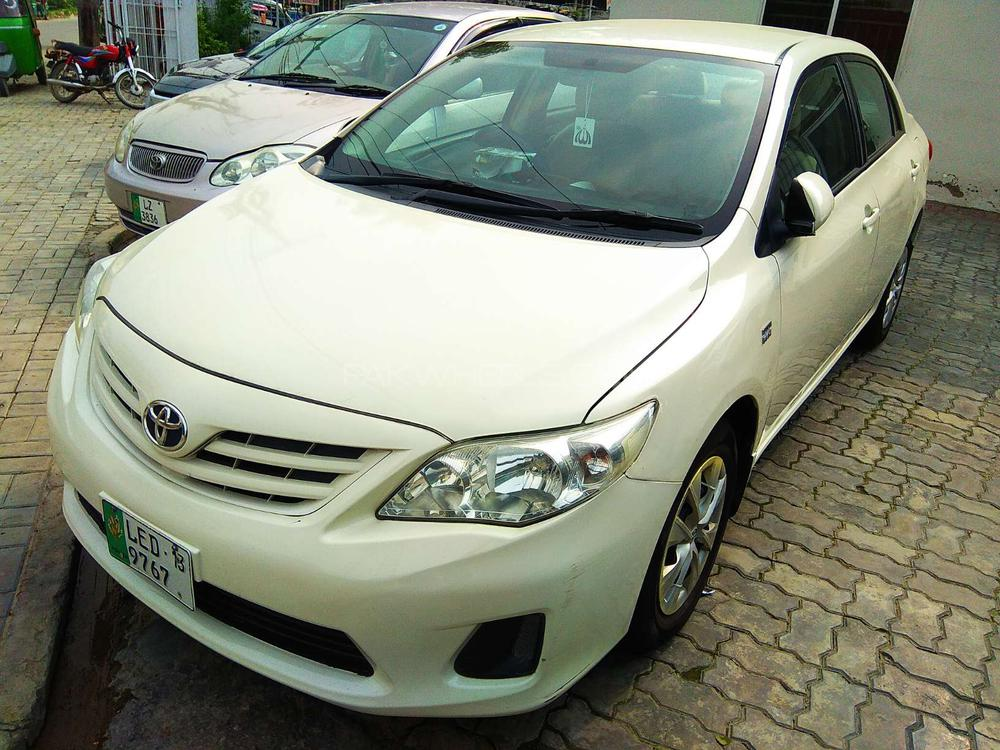license plate: (103, 517, 202, 586)
